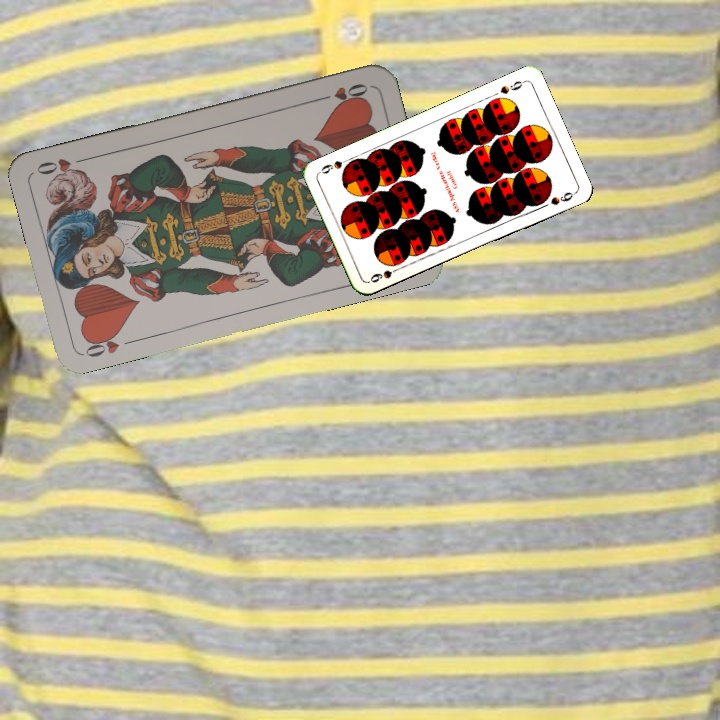HO: (79, 327, 138, 360), (313, 79, 371, 107)
S9: (366, 263, 404, 285), (496, 76, 528, 97)
